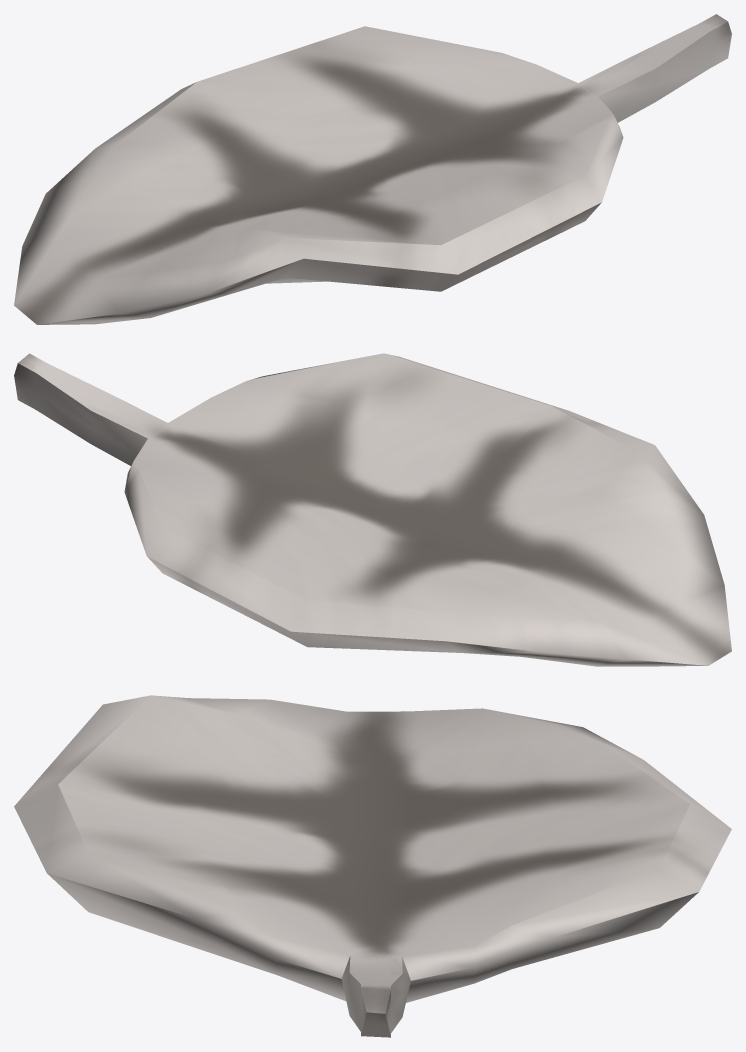
File: feather3.fbx
The picture shows the model from 3 angles, top to bottom: view 1: azimuth 30°, elevation 25°; view 2: azimuth 150°, elevation 25°; view 3: azimuth 270°, elevation 25°; orthographic projection. The views are drawn at different scales.
Parts seen in each view (by area): view 1: pCube4; view 2: pCube4; view 3: pCube4.
Boxes of the visible parts, <box> form: pCube4: <box>14,14,731,324</box>; pCube4: <box>14,353,731,666</box>; pCube4: <box>14,695,731,1037</box>.
Bounding box in the file's own units: 2.07 × 0.405 × 1.42.
1 material, 1 textured.
